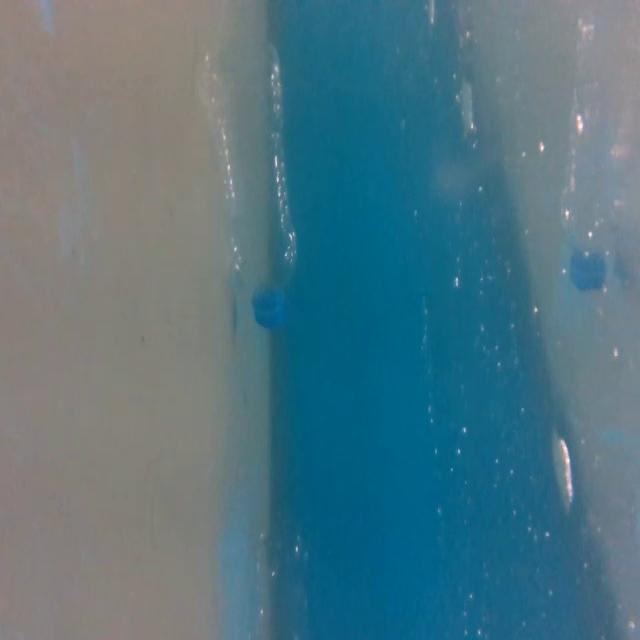plastic bottle: (186, 32, 310, 333)
